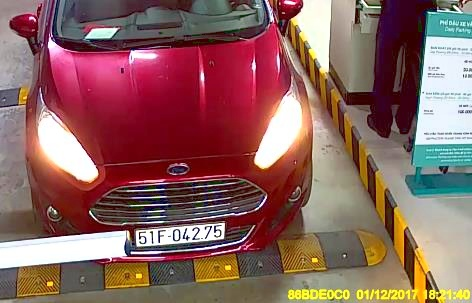plate: (132, 218, 236, 249)
